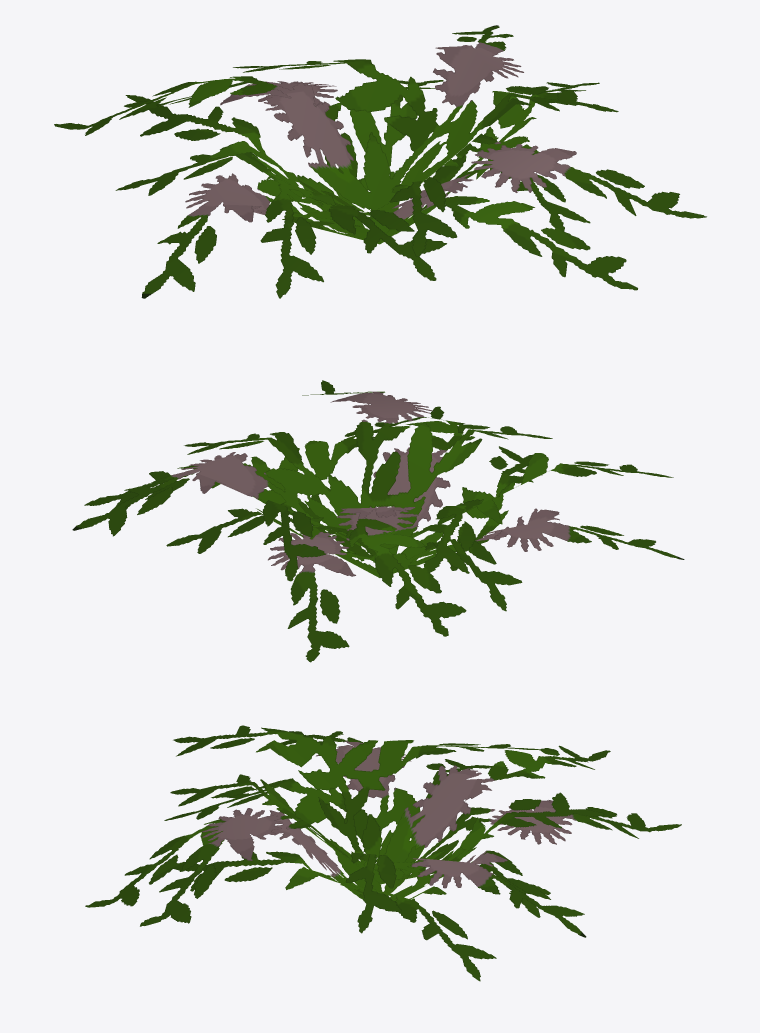
The model's file is Mojave_preview_3DS_simplified.glb.
3 views of the same model, one above another, from view 1: azimuth 30°, elevation 25°; view 2: azimuth 150°, elevation 25°; view 3: azimuth 270°, elevation 25° (orthographic). The views are drawn at different scales.
Visible parts, largest first — view 1: Marine Park Empire model; view 2: Marine Park Empire model; view 3: Marine Park Empire model.
Part boxes in pixels (left/top/right/bottom): Marine Park Empire model: left=54, top=25, right=706, bottom=298; Marine Park Empire model: left=72, top=380, right=684, bottom=662; Marine Park Empire model: left=85, top=725, right=681, bottom=981.
Bounding box in the file's own units: 131 × 21.87 × 131.
Materials: 1 (1 with a texture image).
